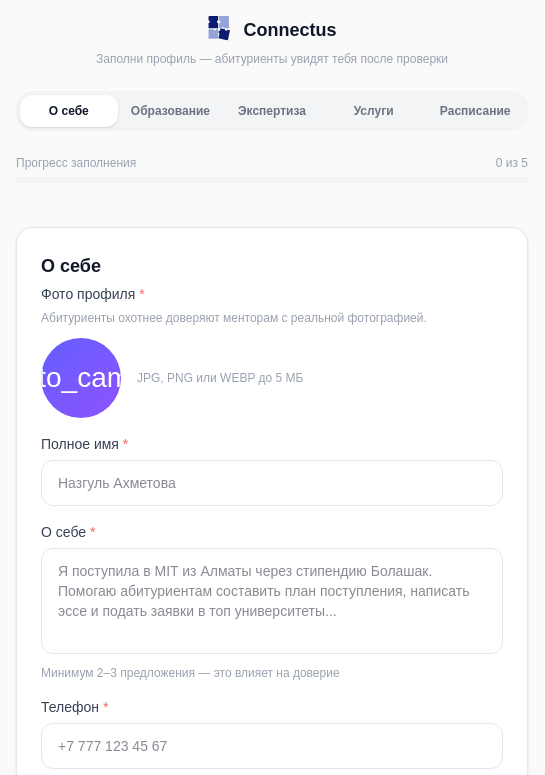
Test case: MentorOnboarding › shows a save error when auto-save fails
Type "Aigerim" into the field with placeholder "Назгуль Ахметова".
click(272, 483); type("Aigerim")  # box [41,460,503,506]
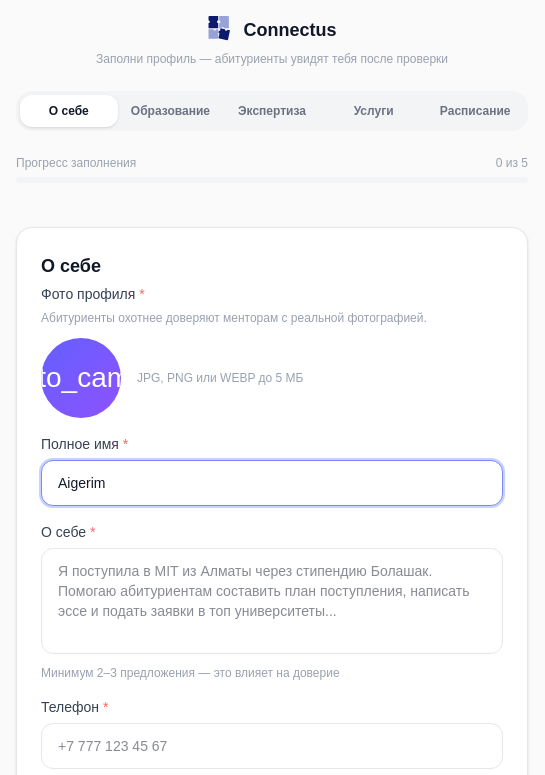
Press Tab
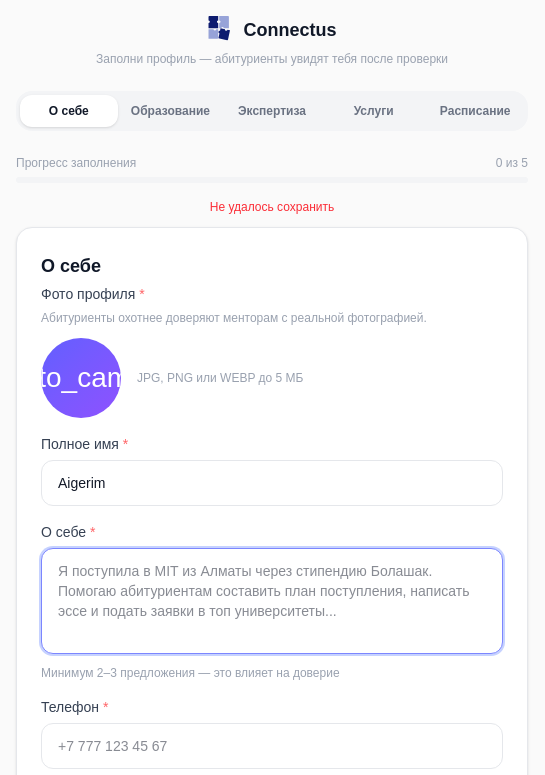
Expected: the text "Не удалось сохранить" is shown, [210,200,334,214]
